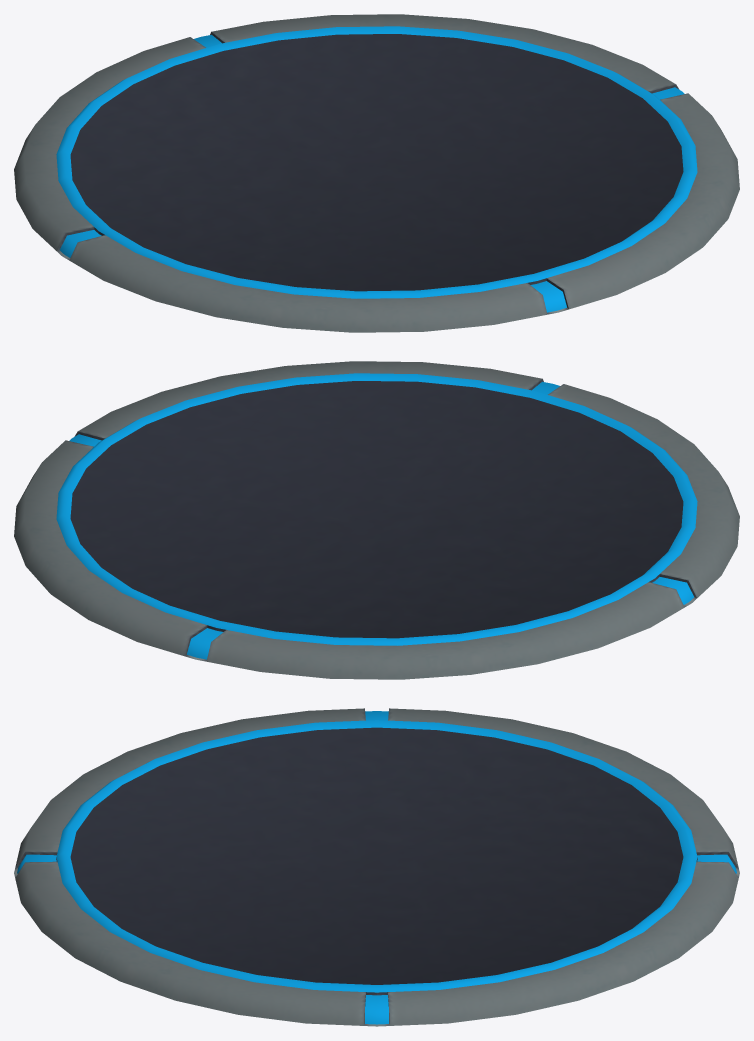
File: SM_Button.fbx
3 renders of one model, top to bottom at view 1: azimuth 30°, elevation 25°; view 2: azimuth 150°, elevation 25°; view 3: azimuth 270°, elevation 25°, orthographic.
Visible parts, largest first — view 1: ButtonBottom; view 2: ButtonBottom; view 3: ButtonBottom.
Boxes of the visible parts, x1=… form: ButtonBottom: x1=14, y1=14, x2=739, y2=332; ButtonBottom: x1=14, y1=361, x2=739, y2=679; ButtonBottom: x1=14, y1=708, x2=739, y2=1026.
Size of what is drawn, in the model's own units: 1 by 0.0312 by 1.
